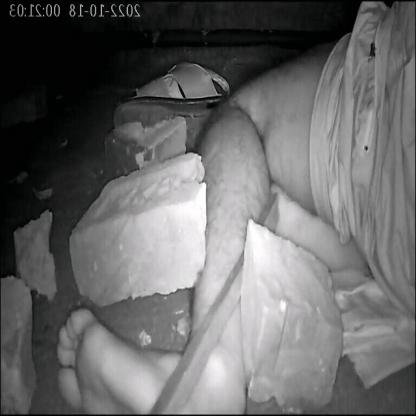leg: (48, 111, 275, 416)
